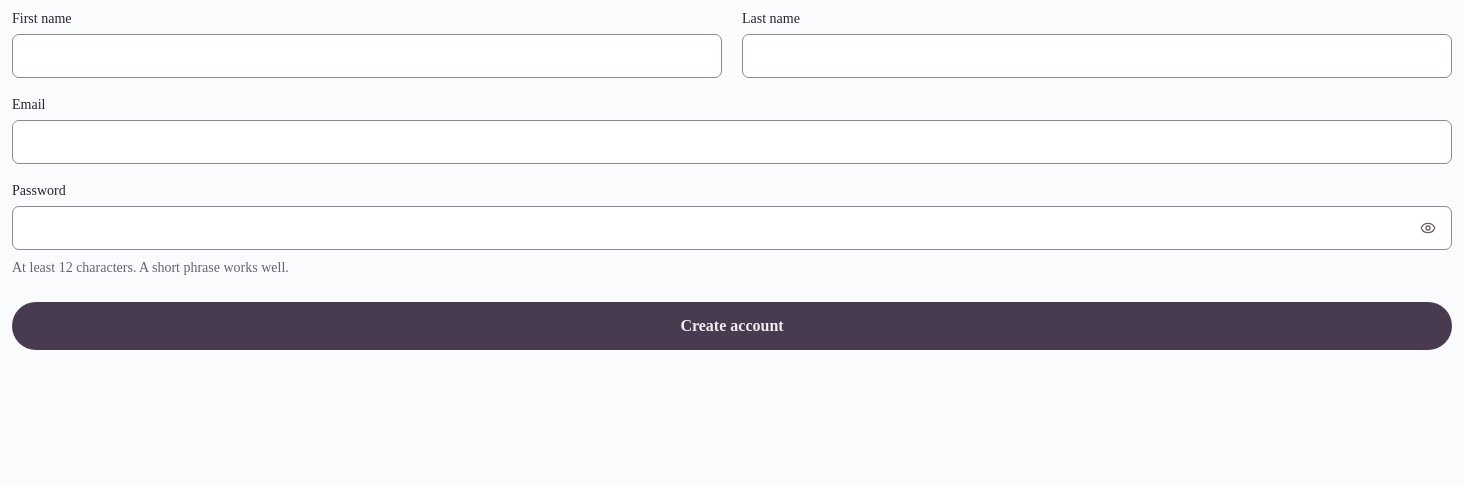
it: RegisterForm › lists backend validation messages
In the field labelled "First name": (367, 56) [12,34,722,78], type " Ada "
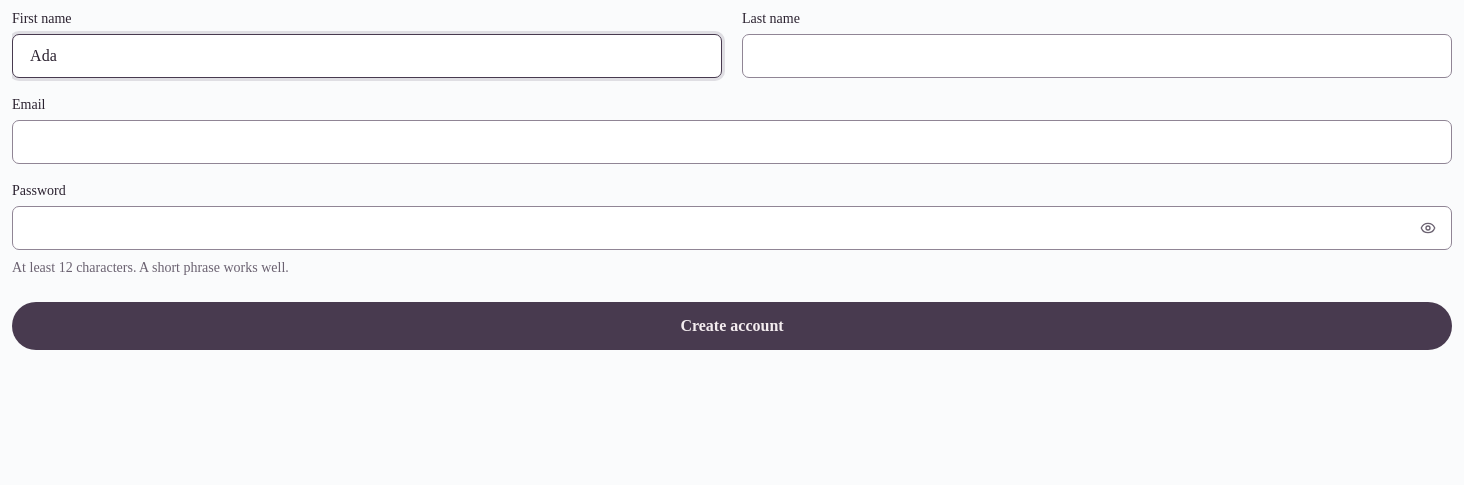
In the field labelled "Last name": (1097, 56) [742,34,1452,78], type "Lovelace"
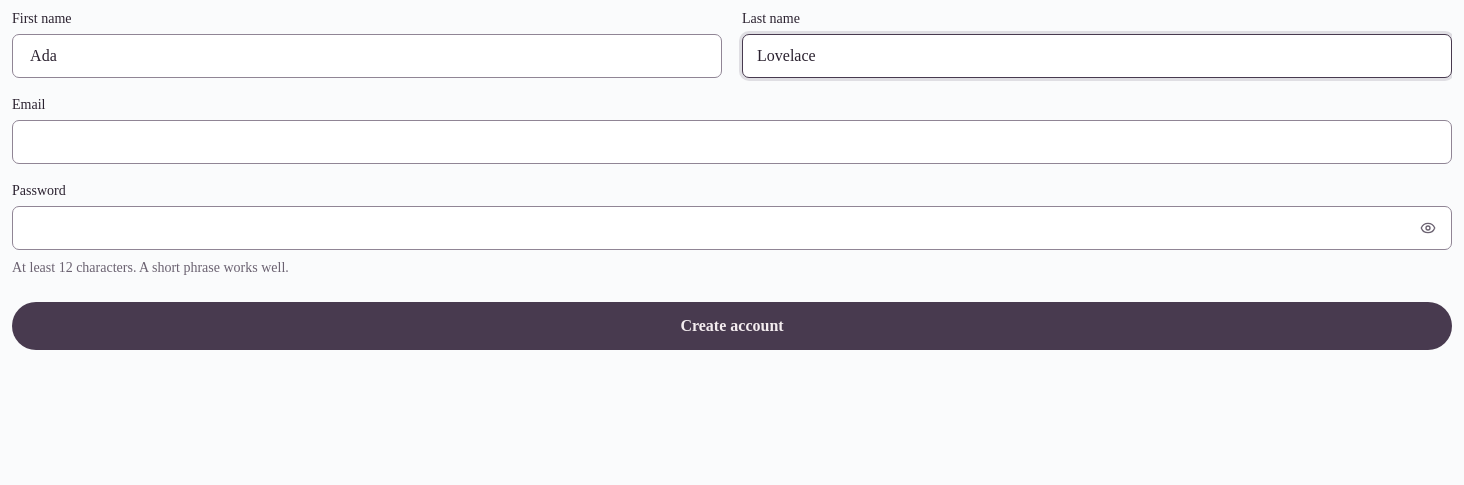
In the field labelled "Email": (732, 142) [12,120,1452,164], type "ada@example.com"
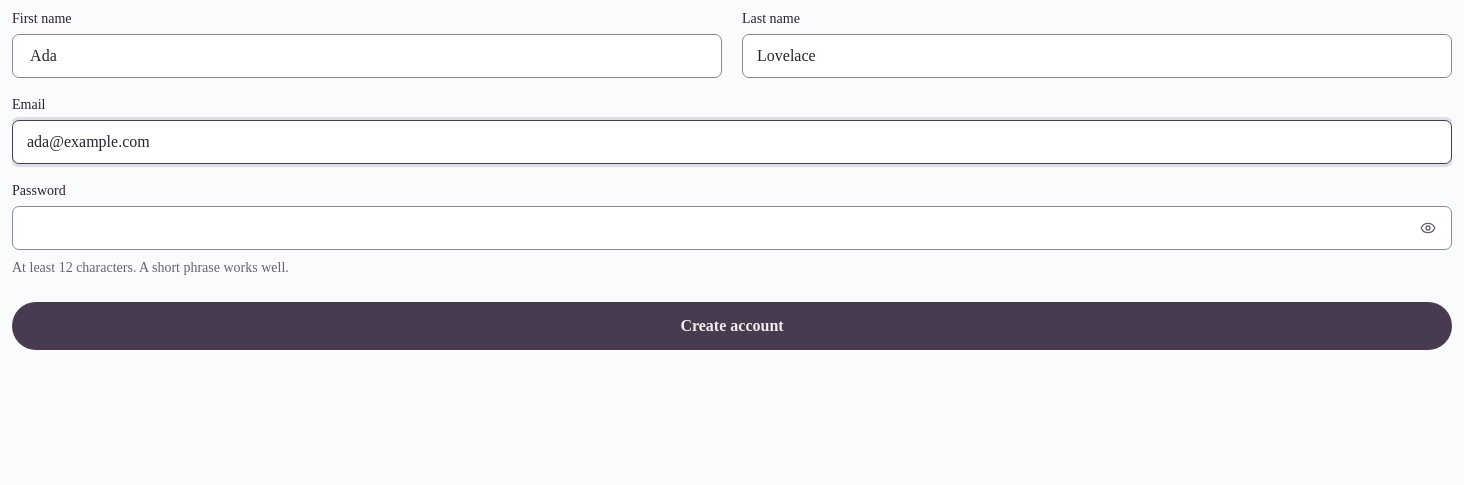
In the password field labelled "Password": (732, 228) [12,206,1452,250], type "a long enough phrase"
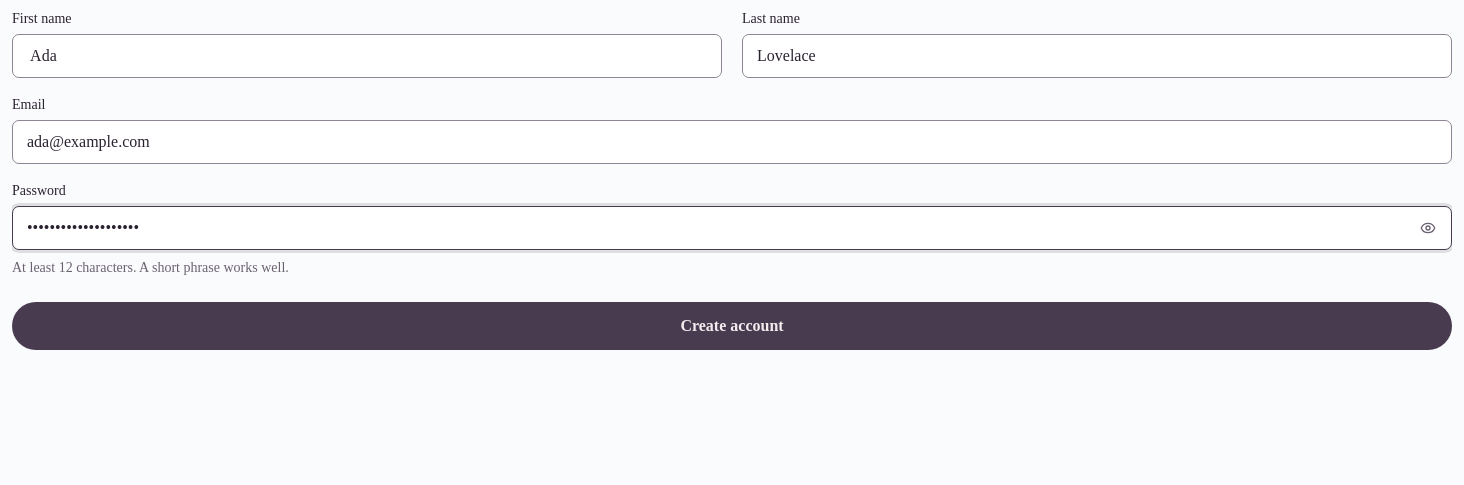
Click the button "Create account": (732, 326) [12,302,1452,350]
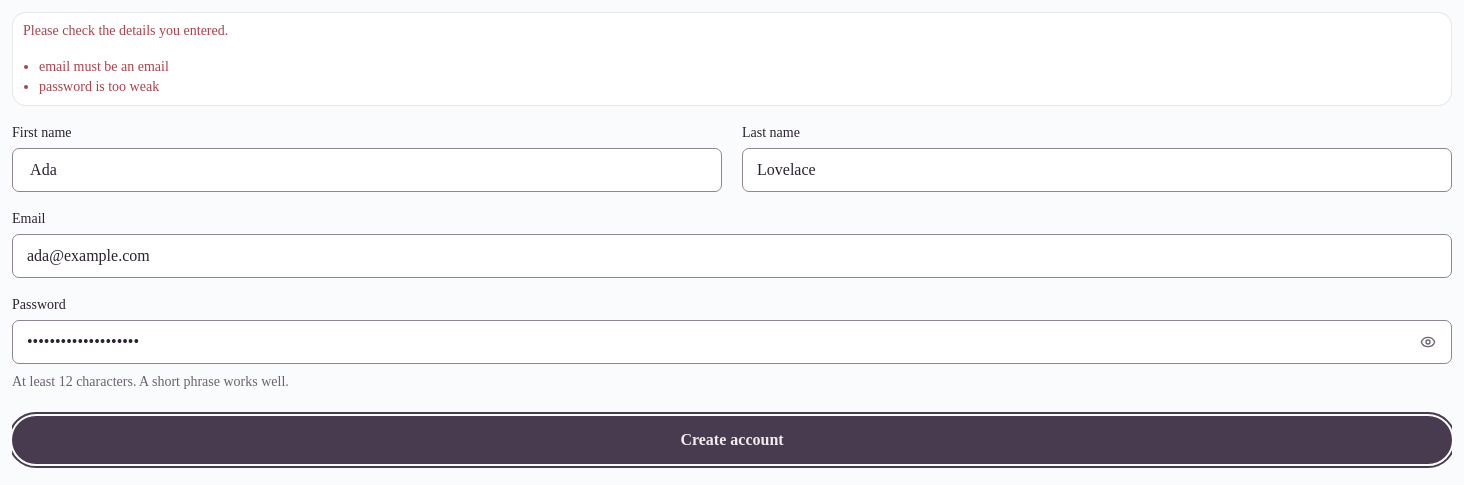
Expected: the message shows "email must be an email", [39,59,169,74]
Expected: the message shows "password is too weak", [39,79,159,94]
